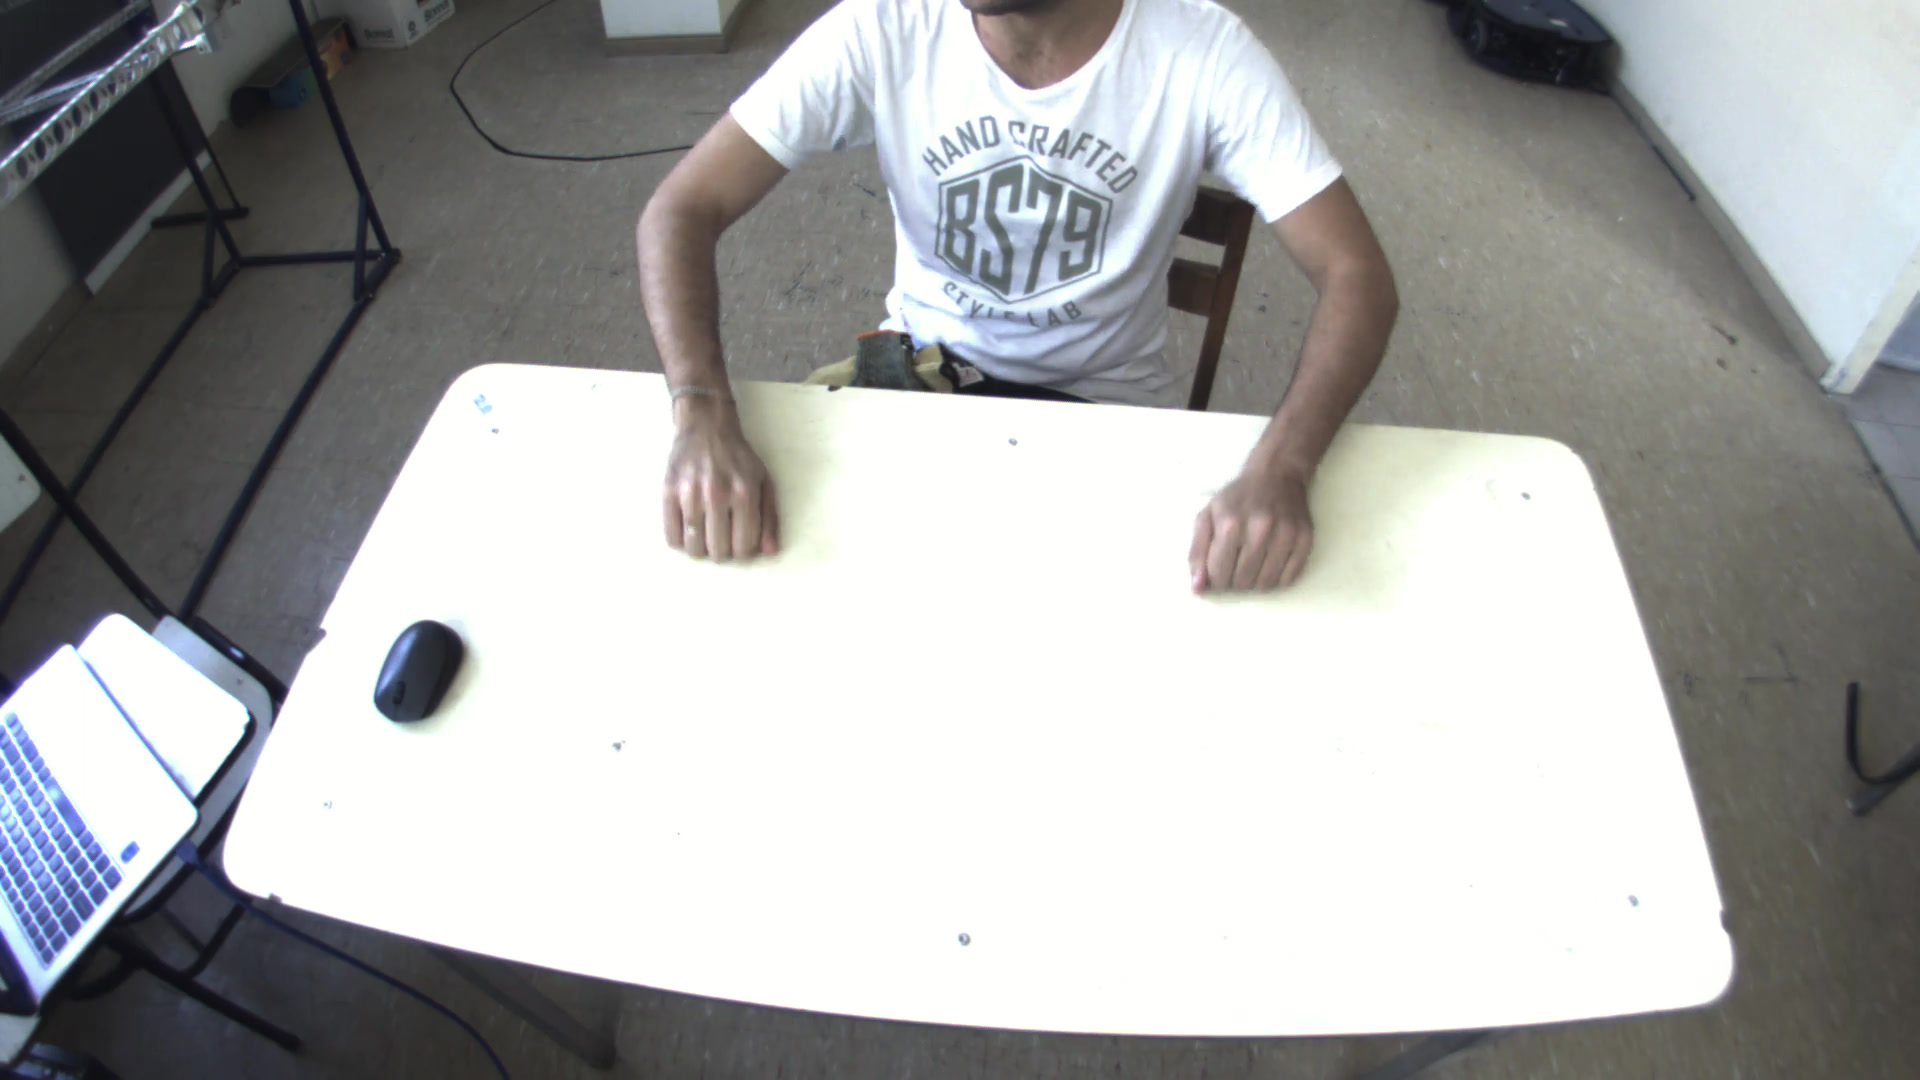hand: (647, 375, 790, 566), (1182, 436, 1338, 595)
